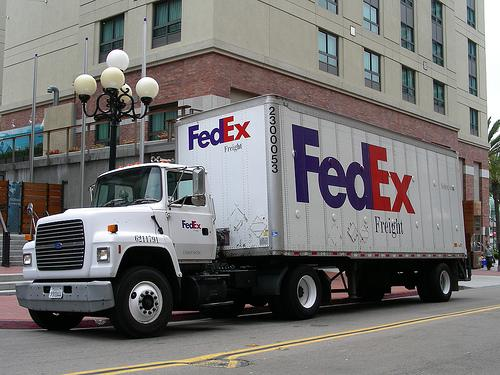truck: (15, 93, 473, 339)
